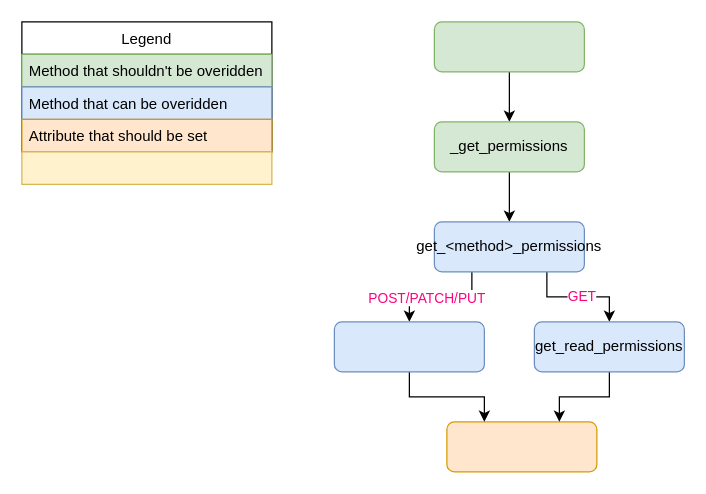
This 706x494 diagram has some shape labels left out. Here are the shapes that lost their labels. From the top down, the centre of each, then its label:
At (508,46): "get_permissions".
At (146,167): "Attribute that can be set".
At (408,346): "get_write_permissions".
At (521,446): "permissions".
